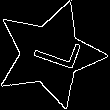L_W: (20, 31, 80, 78)
